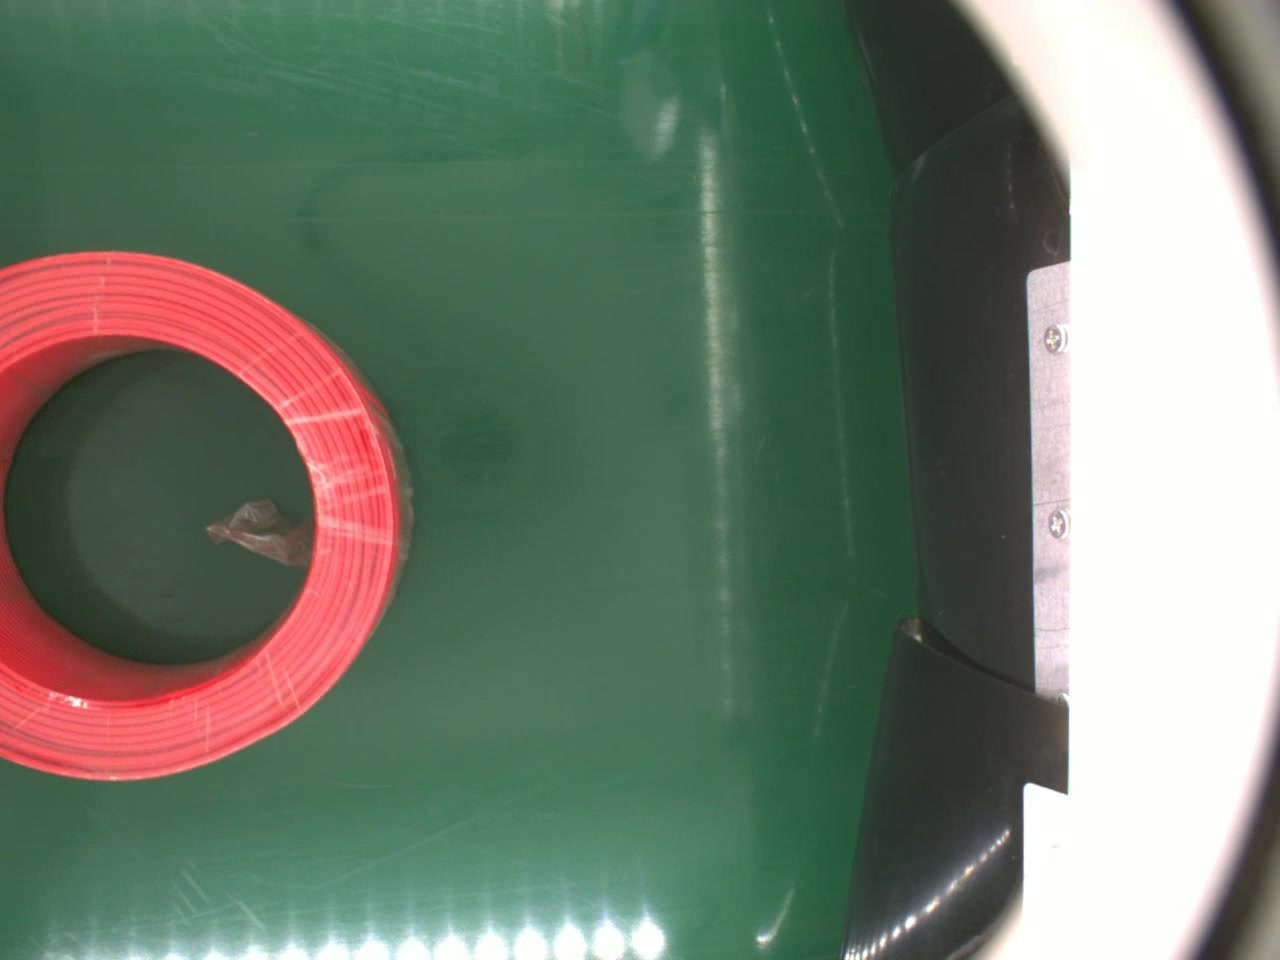red: (0, 247, 413, 783)
